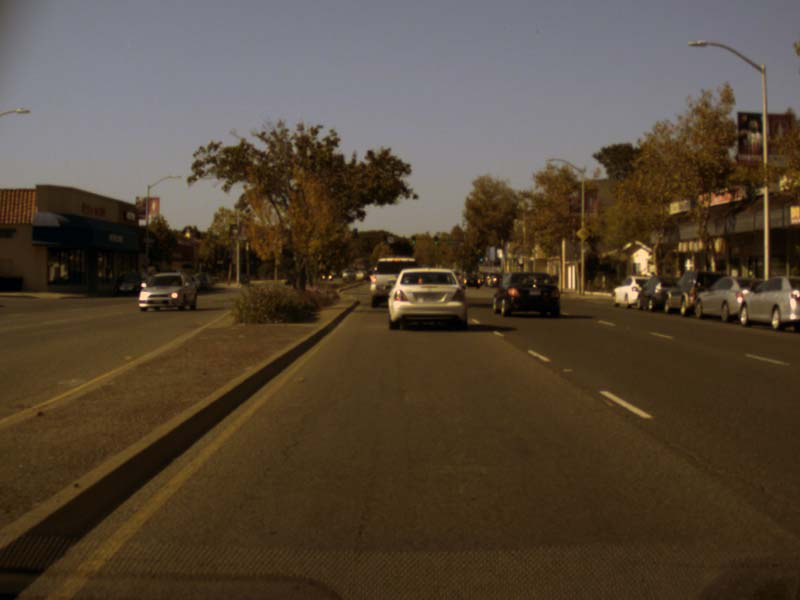Green: (410, 236, 416, 244), (433, 236, 438, 245), (383, 234, 387, 244)
